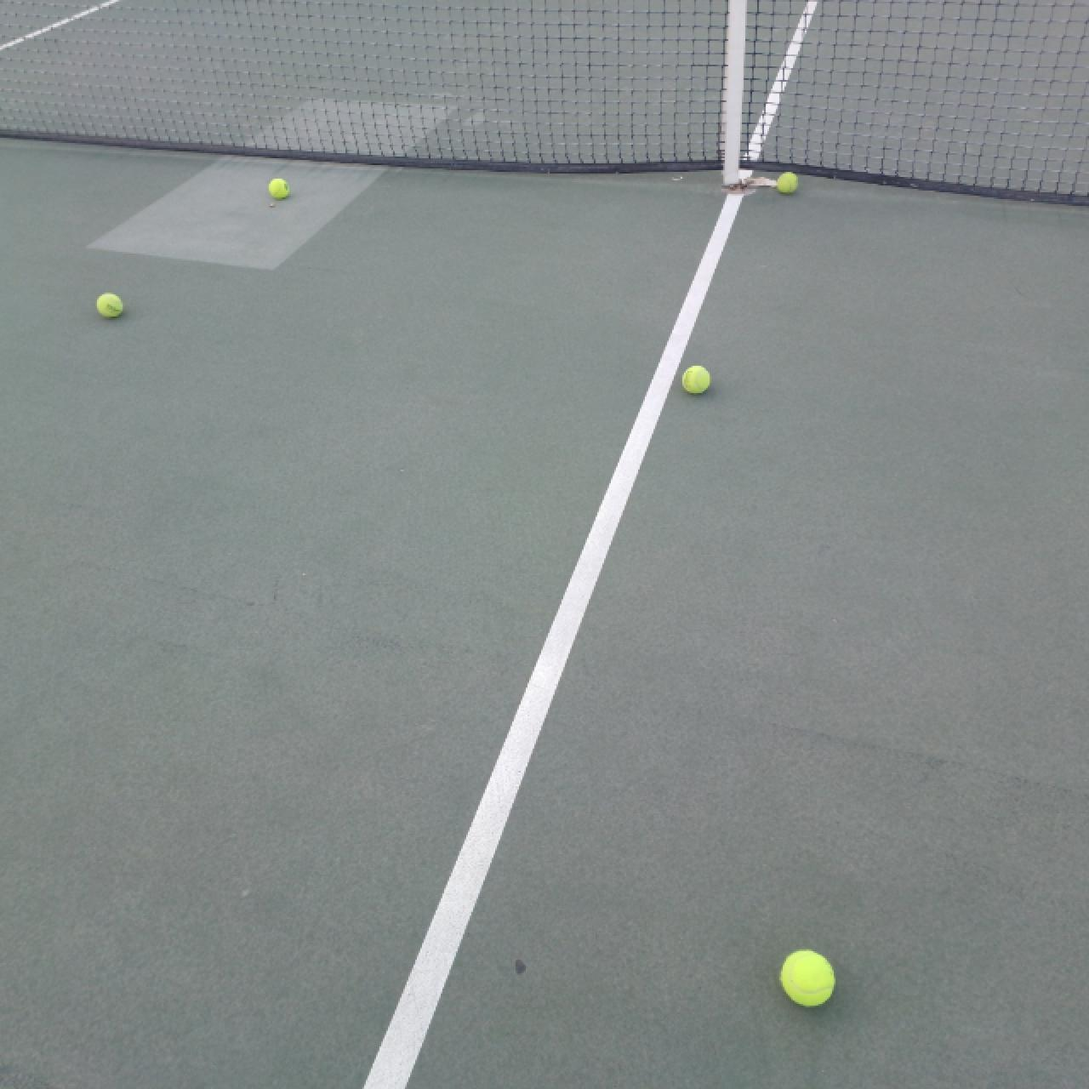tennis-ball: (779, 948, 837, 1008), (681, 363, 711, 395), (96, 291, 125, 321), (776, 171, 799, 195), (268, 178, 291, 201)
